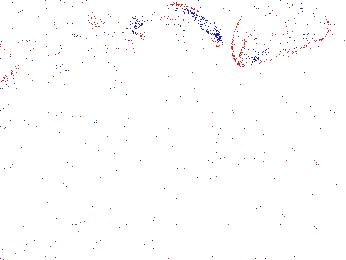moon jellyfish: (230, 1, 331, 68), (133, 3, 223, 59), (7, 3, 96, 46), (85, 20, 143, 83), (1, 1, 39, 85)
